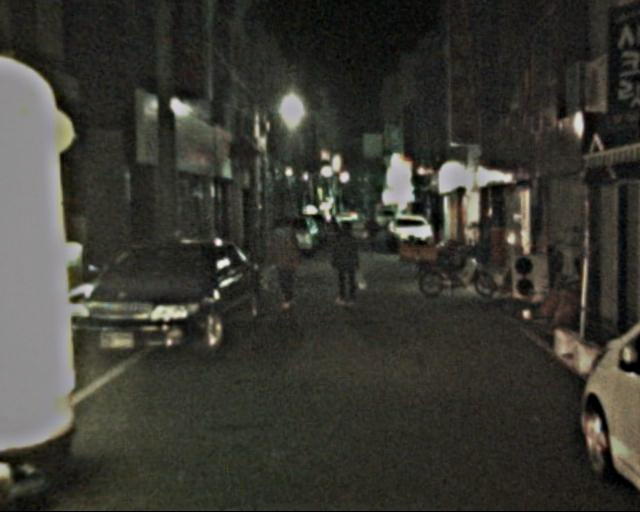person: (326, 216, 369, 310), (266, 216, 307, 312), (365, 214, 380, 251)
